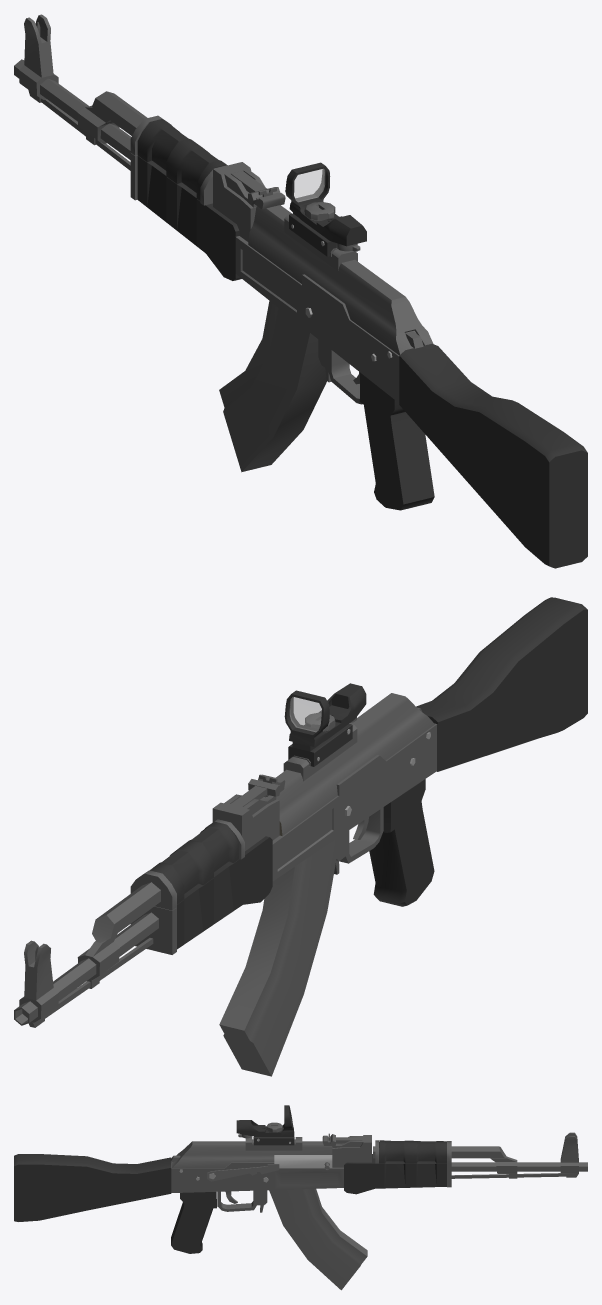
The picture shows the model from 3 angles, top to bottom: view 1: azimuth 30°, elevation 25°; view 2: azimuth 150°, elevation 25°; view 3: azimuth 270°, elevation 25°; orthographic projection. The views are drawn at different scales.
Parts seen in each view (by area): view 1: Ak-47, Holo Sight, Holo Sight.002; view 2: Ak-47, Holo Sight, Holo Sight.002; view 3: Ak-47, Holo Sight.
Boxes of the visible parts, <box> form: Ak-47: <box>14,14,587,568</box>; Holo Sight: <box>285,162,366,256</box>; Holo Sight.002: <box>294,169,324,202</box>; Ak-47: <box>14,597,587,1076</box>; Holo Sight: <box>284,683,366,766</box>; Holo Sight.002: <box>289,697,321,732</box>; Ak-47: <box>14,1132,587,1290</box>; Holo Sight: <box>236,1105,294,1145</box>.
Bounding box in the file's own units: 0.0496 × 0.3004 × 0.879.
2 materials, 1 textured.
